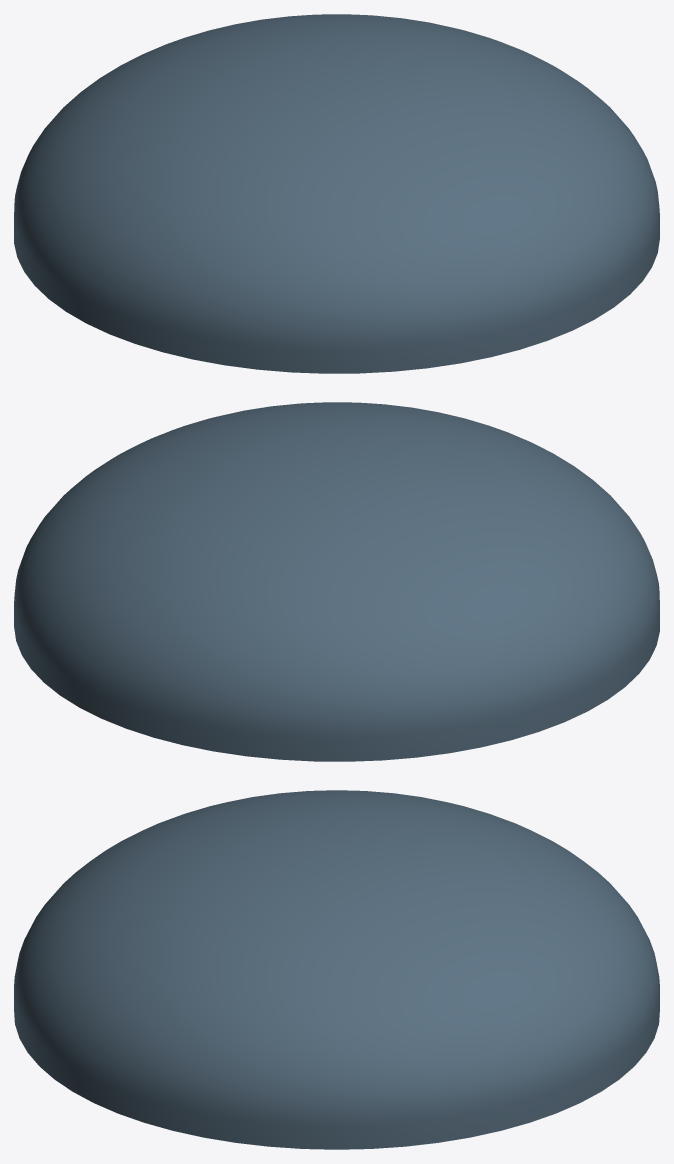
Rendered from dnishche-630x10.glb.
The picture shows the model from 3 angles, top to bottom: view 1: azimuth 30°, elevation 25°; view 2: azimuth 150°, elevation 25°; view 3: azimuth 270°, elevation 25°; orthographic projection.
Visible parts, largest first — view 1: Open CASCADE STEP translator 7.9 23; view 2: Open CASCADE STEP translator 7.9 23; view 3: Open CASCADE STEP translator 7.9 23.
Part boxes in pixels (box(x1,y1,x2,y2)): Open CASCADE STEP translator 7.9 23: box(14, 14, 659, 373); Open CASCADE STEP translator 7.9 23: box(14, 402, 659, 761); Open CASCADE STEP translator 7.9 23: box(14, 790, 659, 1149).
Size of the model in its own units: 630 by 182 by 630.
